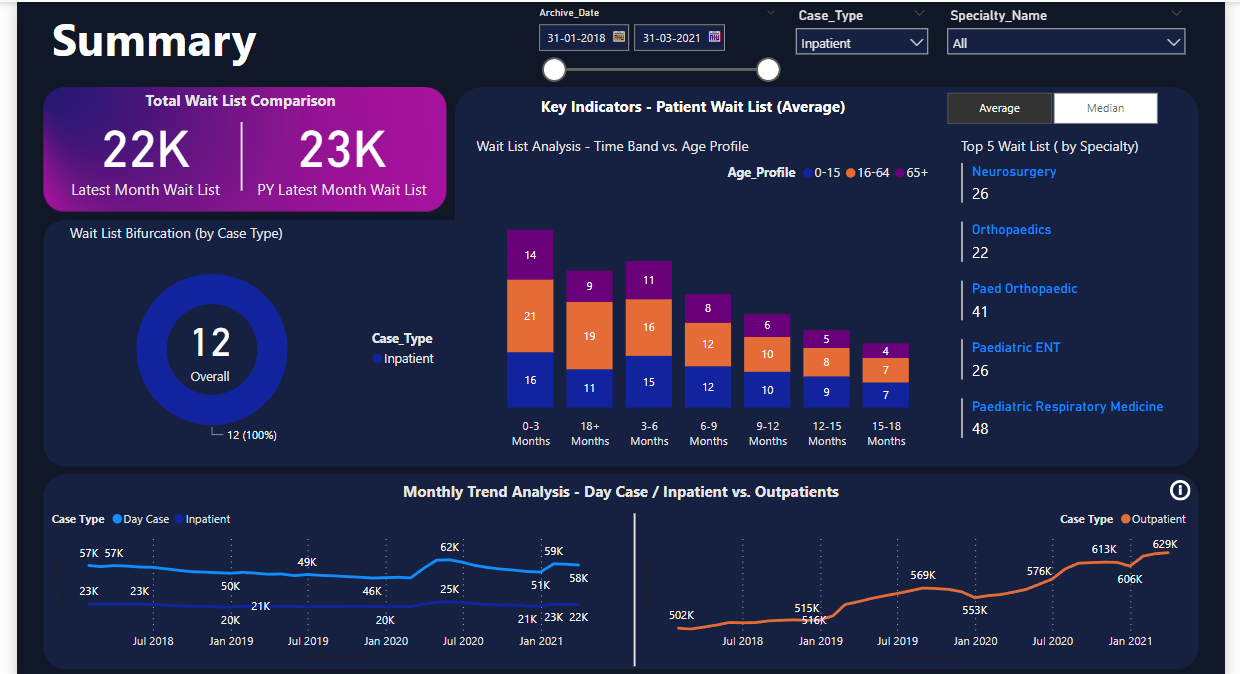

The dashboard page shown, as its layout file describes it:
{"tool":"powerbi","page":{"name":"Summary","canvas":[1280,720],"ordinal":0},"visuals":[{"type":"card","fields":{"Values":["All_Data.Latest Month Wait List"]},"box":[32,103.6,208,112],"z":0},{"type":"card","fields":{"Values":["All_Data.PY Latest Month Wait List"]},"box":[240,103.6,208,112],"z":1000},{"type":"slicer","fields":{"Values":["Calculation Method.Calc Method"]},"box":[960,89.1,272.7,47.3],"z":2000},{"type":"donutChart","fields":{"Category":["All_Data.Case_Type"],"Y":["All_Data.Avg/Med Wait List"]},"box":[32,256,432,224],"z":3000},{"type":"columnChart","fields":{"Y":["All_Data.Avg/Med Wait List"],"Category":["All_Data.Time_Bands"],"Series":["All_Data.Age_Profile"]},"box":[480,160,496,320],"z":4000},{"type":"multiRowCard","fields":{"Values":["All_Data.Specialty_Name","All_Data.Avg/Med Wait List"]},"box":[994.5,165.5,254.5,336.4],"z":5000},{"type":"card","fields":{"Values":["All_Data.Dynamic Title"]},"box":[479.6,89.3,472.1,46.9],"z":6000},{"type":"card","fields":{"Values":["All_Data.NoDataLeft"]},"box":[208.8,576.5,222.4,115],"z":6500},{"type":"lineChart","fields":{"Category":["All_Data.Archive_Date"],"Y":["Sum(All_Data.Total)"],"Series":["All_Data.Case_Type"]},"box":[32,528,592,176],"z":7000},{"type":"slicer","fields":{"Values":["All_Data.Archive_Date"]},"box":[540,0,276.4,107.3],"z":8000},{"type":"slicer","fields":{"Values":["All_Data.Case_Type"]},"box":[816,0,160,80],"z":9000},{"type":"slicer","fields":{"Values":["All_Data.Specialty_Name"]},"box":[976,0,272,80],"z":10000},{"type":"textbox","box":[32,0,400,80],"z":11000},{"type":"card","fields":{"Values":["All_Data.NoDataRight"]},"box":[847.3,576.5,222.4,115],"z":12000},{"type":"lineChart","fields":{"Category":["All_Data.Archive_Date"],"Y":["Sum(All_Data.Total)"],"Series":["All_Data.Case_Type"]},"box":[656,528,592,176],"z":13000},{"type":"card","fields":{"Values":["All_Data.Avg/Med Wait List"]},"box":[147.3,316.4,112.7,96.4],"z":14000},{"type":"shape","box":[209.1,127.3,56.4,72.7],"z":15000},{"type":"textbox","box":[78.2,87.3,318.2,40],"z":16000},{"type":"textbox","box":[254.5,501.8,770.9,40],"z":17000},{"type":"shape","box":[625.5,541.8,56.4,161.8],"z":18000},{"type":"textbox","box":[481.1,136.2,378.3,40.9],"z":19000},{"type":"textbox","box":[994.5,136.4,285.5,40],"z":20000},{"type":"textbox","box":[50.9,229.1,316.4,40],"z":21000},{"type":"actionButton","box":[1218,502.3,48.4,30.3],"z":23000}]}

Visuals, with their boxes on the page's 1280x720 design canvas (x1, y1, x2, y2). These are canvas units, not pixel positions in the 1240x674 screenshot, which may show the page scaled, cropped or inside an application window:
card - All_Data.Latest Month Wait List: {"x1": 32, "y1": 104, "x2": 240, "y2": 216}
card - All_Data.PY Latest Month Wait List: {"x1": 240, "y1": 104, "x2": 448, "y2": 216}
slicer - Calculation Method.Calc Method: {"x1": 960, "y1": 89, "x2": 1233, "y2": 136}
donutChart - All_Data.Case_Type x All_Data.Avg/Med Wait List: {"x1": 32, "y1": 256, "x2": 464, "y2": 480}
columnChart - All_Data.Avg/Med Wait List x All_Data.Time_Bands: {"x1": 480, "y1": 160, "x2": 976, "y2": 480}
multiRowCard - All_Data.Specialty_Name x All_Data.Avg/Med Wait List: {"x1": 994, "y1": 166, "x2": 1249, "y2": 502}
card - All_Data.Dynamic Title: {"x1": 480, "y1": 89, "x2": 952, "y2": 136}
card - All_Data.NoDataLeft: {"x1": 209, "y1": 576, "x2": 431, "y2": 692}
lineChart - All_Data.Archive_Date x Sum(All_Data.Total): {"x1": 32, "y1": 528, "x2": 624, "y2": 704}
slicer - All_Data.Archive_Date: {"x1": 540, "y1": 0, "x2": 816, "y2": 107}
slicer - All_Data.Case_Type: {"x1": 816, "y1": 0, "x2": 976, "y2": 80}
slicer - All_Data.Specialty_Name: {"x1": 976, "y1": 0, "x2": 1248, "y2": 80}
textbox: {"x1": 32, "y1": 0, "x2": 432, "y2": 80}
card - All_Data.NoDataRight: {"x1": 847, "y1": 576, "x2": 1070, "y2": 692}
lineChart - All_Data.Archive_Date x Sum(All_Data.Total): {"x1": 656, "y1": 528, "x2": 1248, "y2": 704}
card - All_Data.Avg/Med Wait List: {"x1": 147, "y1": 316, "x2": 260, "y2": 413}
shape: {"x1": 209, "y1": 127, "x2": 266, "y2": 200}
textbox: {"x1": 78, "y1": 87, "x2": 396, "y2": 127}
textbox: {"x1": 254, "y1": 502, "x2": 1025, "y2": 542}
shape: {"x1": 626, "y1": 542, "x2": 682, "y2": 704}
textbox: {"x1": 481, "y1": 136, "x2": 859, "y2": 177}
textbox: {"x1": 994, "y1": 136, "x2": 1280, "y2": 176}
textbox: {"x1": 51, "y1": 229, "x2": 367, "y2": 269}
actionButton: {"x1": 1218, "y1": 502, "x2": 1266, "y2": 533}
